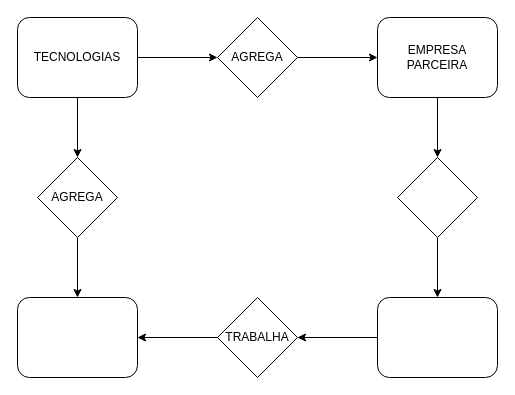
Some shapes in this 515 by 395 pixel diagram are drawn without their labels. The shapes that lost their labels are listed below. From the top down, each one's centre as x and y in pixels, then its label:
At (x=437, y=197): "POSSUI".
At (x=77, y=337): "AREAS".
At (x=437, y=337): "COLABORADORES".
